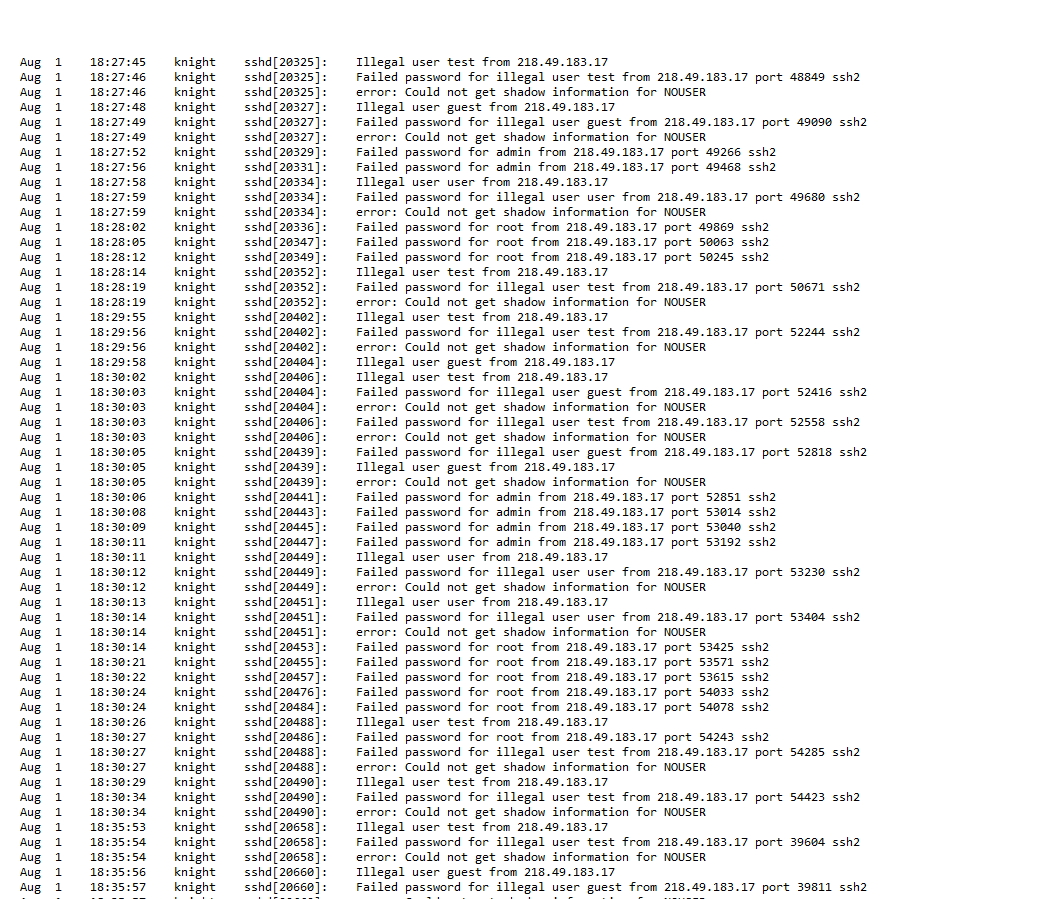table: (13, 53, 879, 896)
